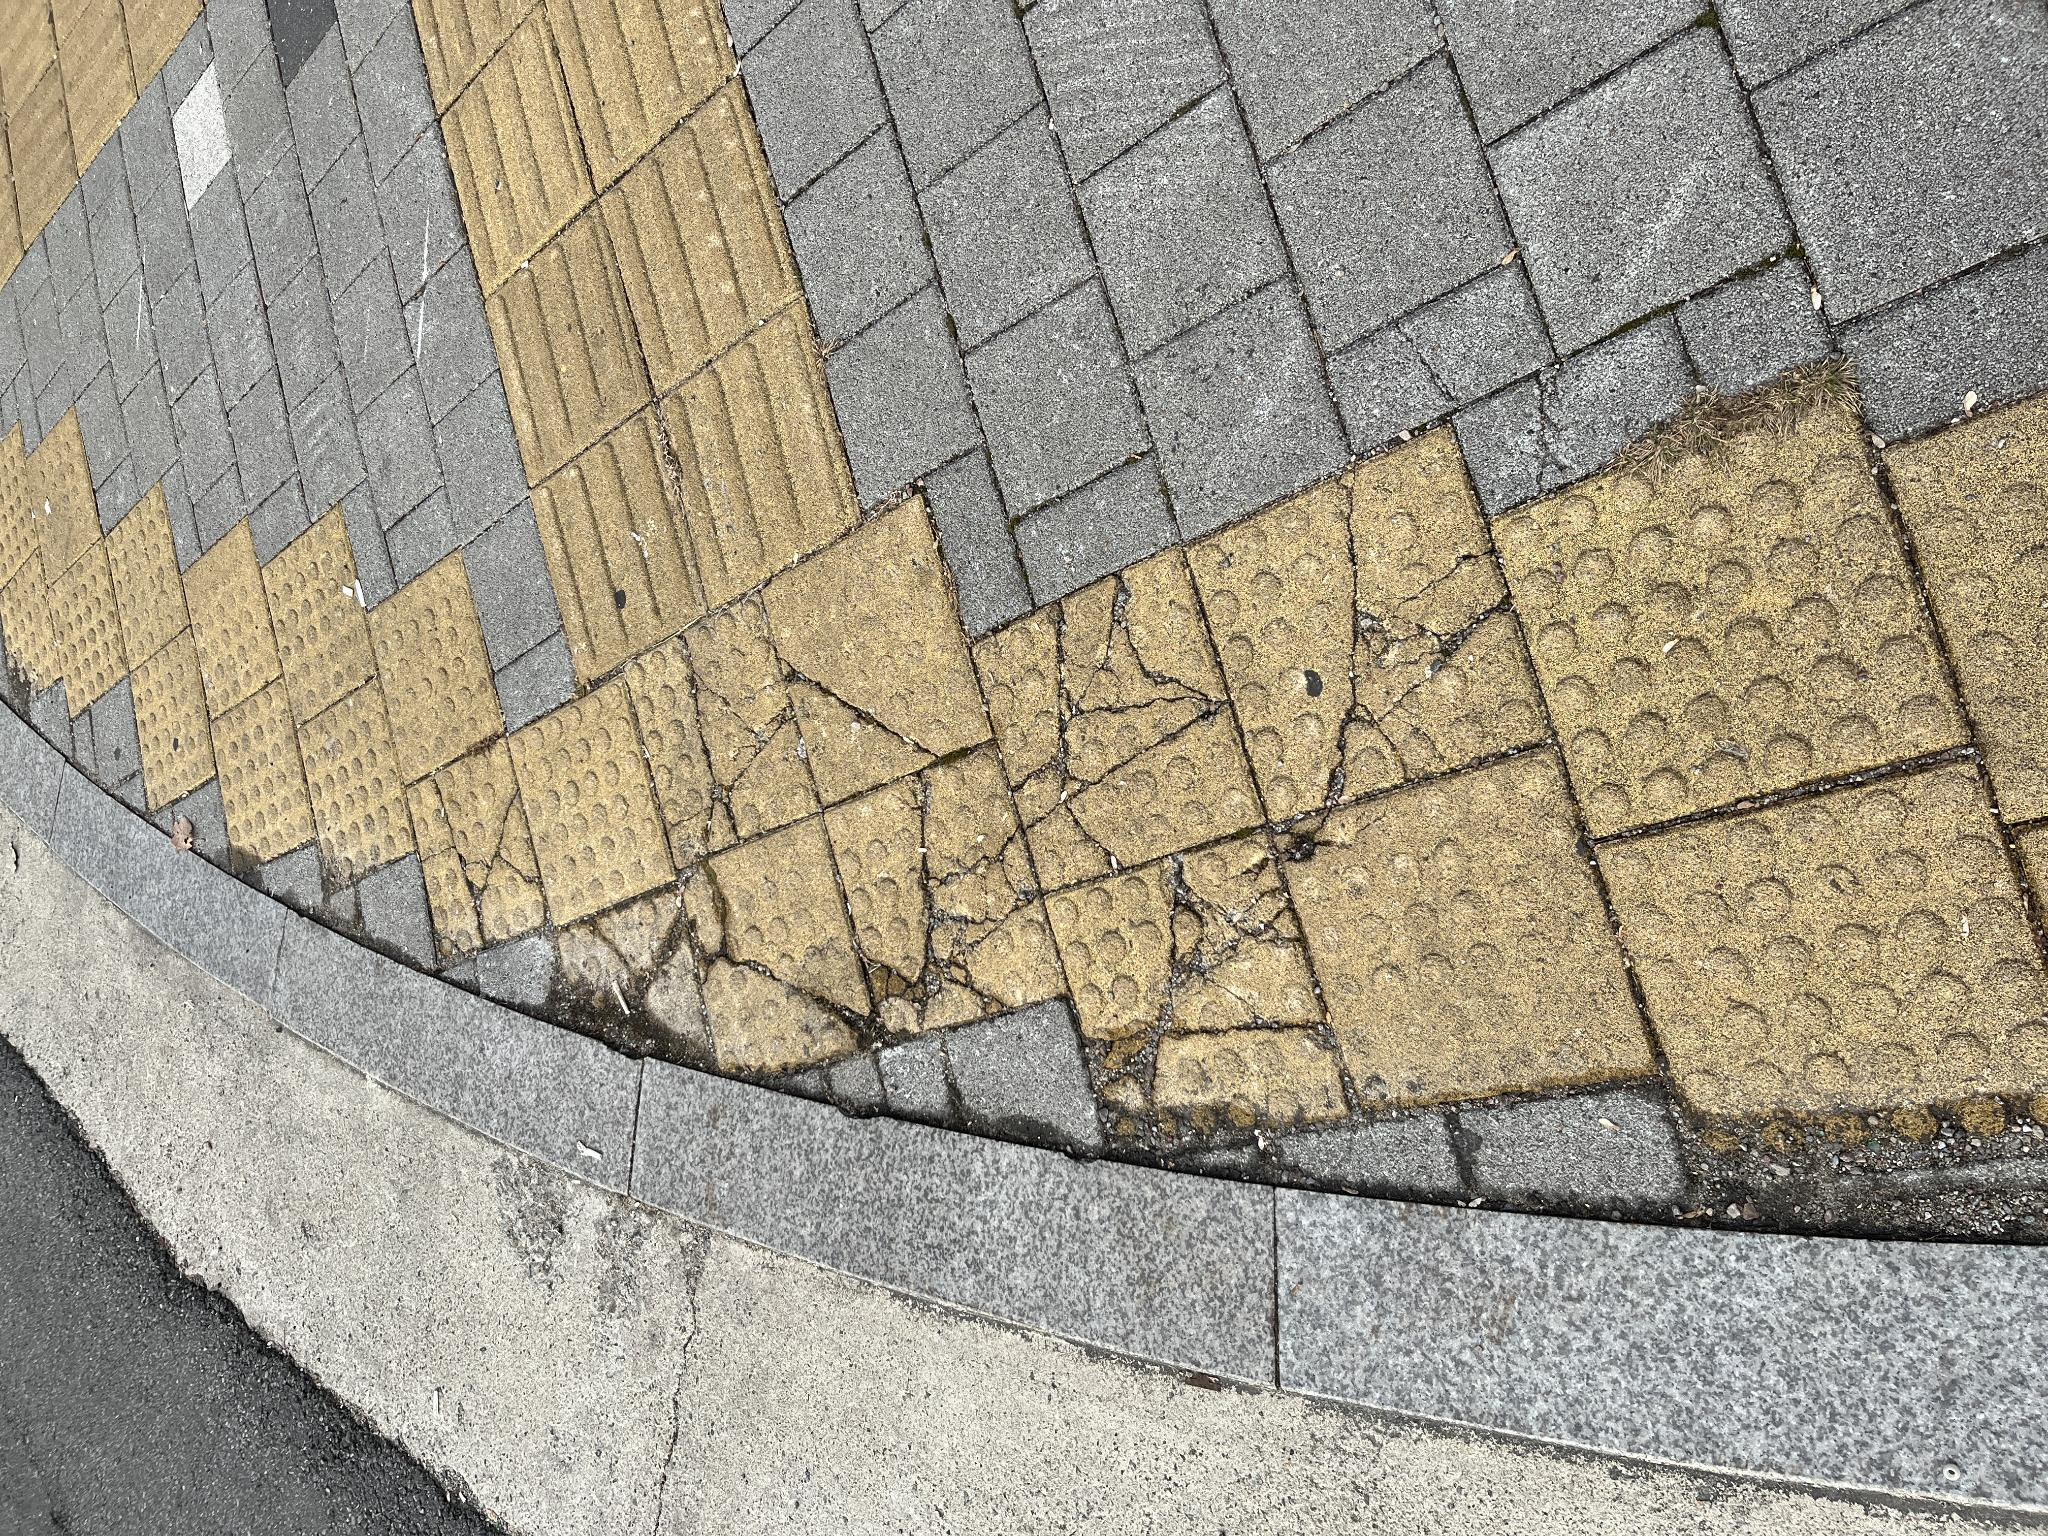Stop block broken: (713, 1187, 1108, 1536), (377, 1047, 703, 1352), (647, 970, 985, 1260), (731, 760, 1040, 992), (493, 823, 792, 1063), (668, 624, 942, 818), (458, 679, 719, 881), (572, 407, 797, 545)
Stop block normal: (610, 510, 858, 676), (810, 261, 1032, 376)
Straight block normal: (1143, 599, 1456, 802)
